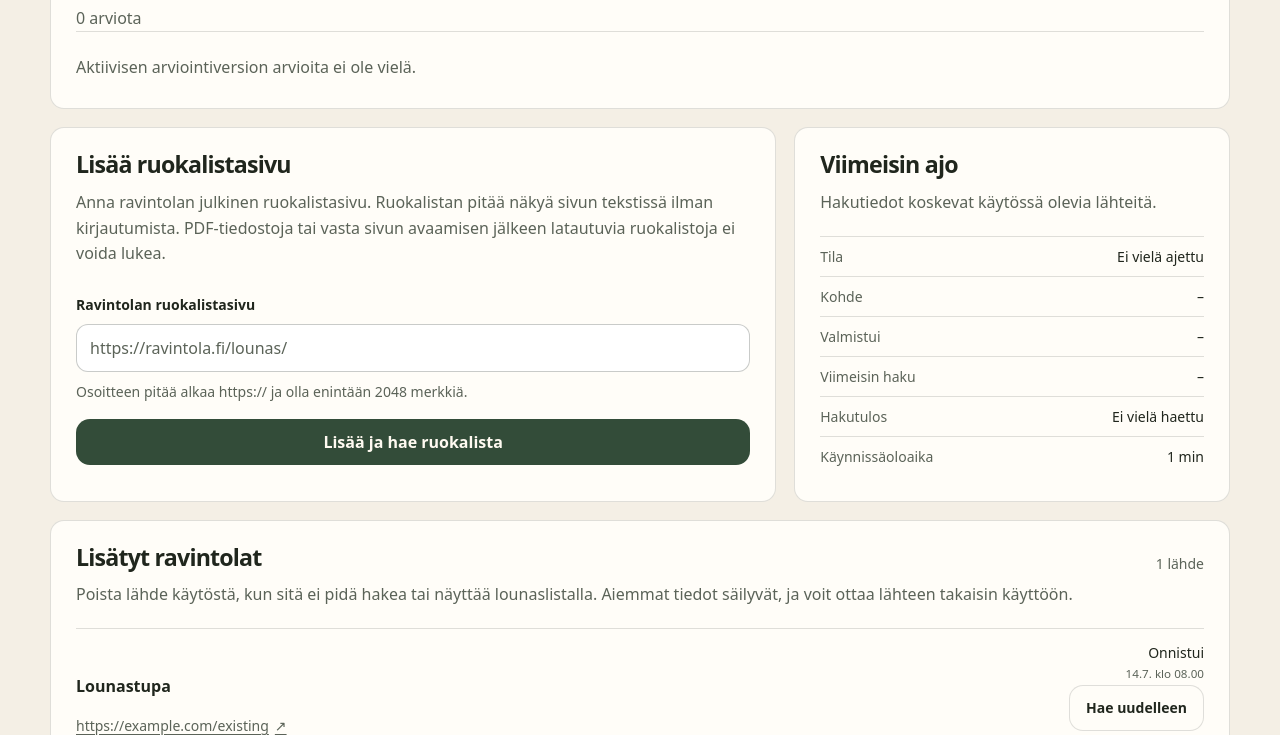
Test: admin recovery › disables and enables a source with confirmed local state, no duplicate save, and an intact draft
(page scrolled)
Type "https://example.com/new-draft" into the field labelled "Ravintolan ruokalistasivu".
click(413, 348); type("https://example.com/new-draft")  # box 76,324 -> 750,372
(page scrolled)
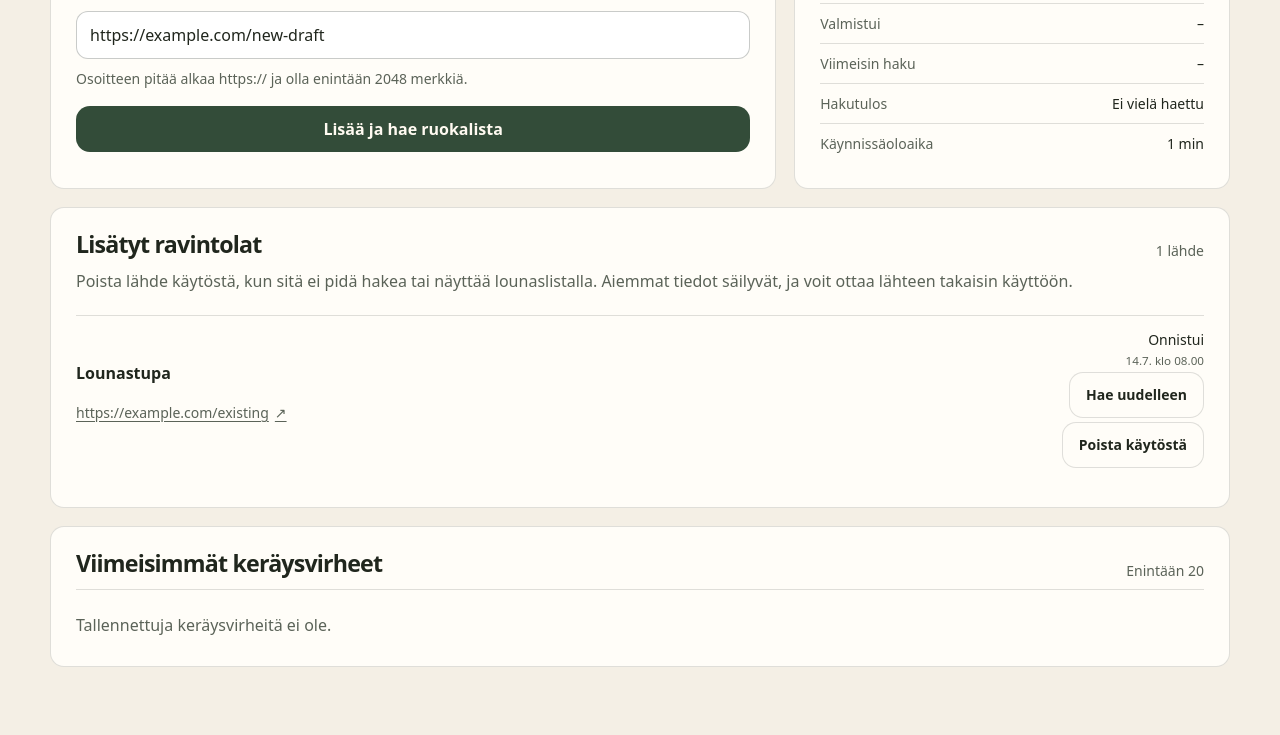
Click the button with aria-label "Poista käytöstä: Lounastupa".
click(1133, 445)  # box 1062,422 -> 1204,468
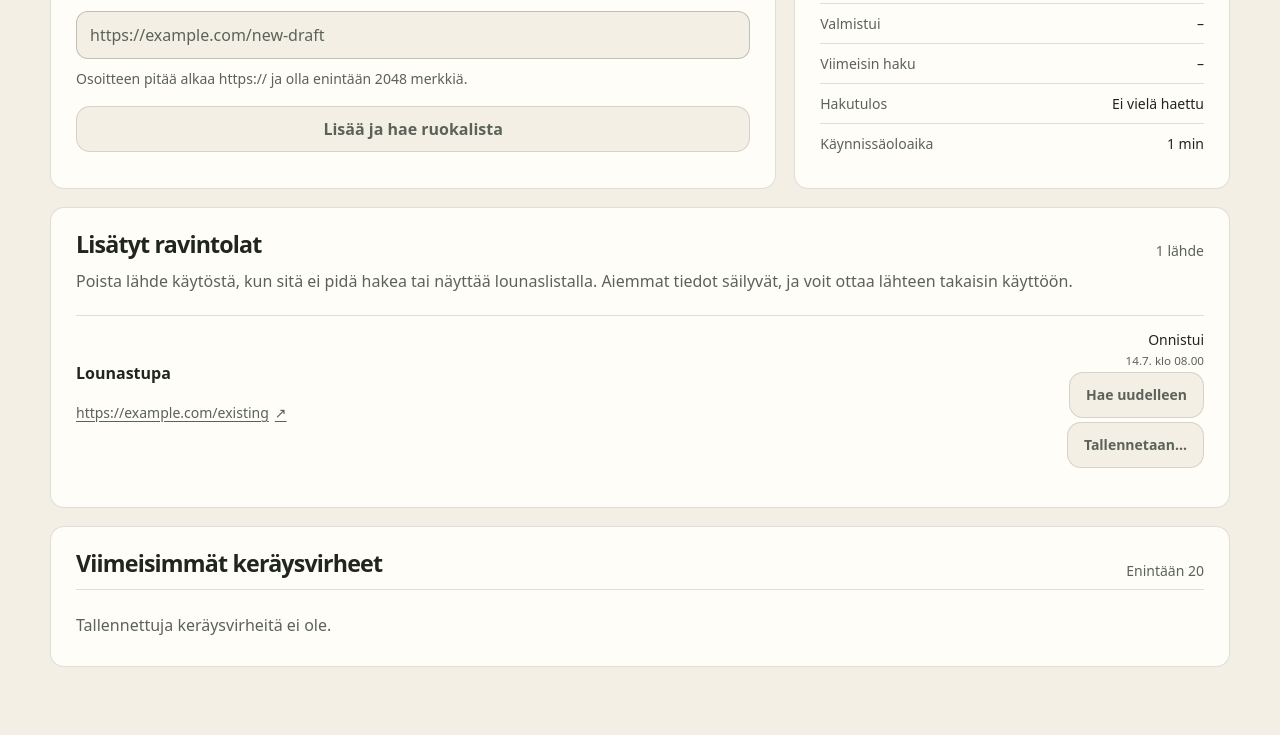
Expected: the button with aria-label "Poista käytöstä: Lounastupa" is disabled
Expected: the button with aria-label "Hae uudelleen: Lounastupa" is disabled, 1069,372 -> 1204,418
Click the button with aria-label "Poista käytöstä: Lounastupa".
click(1135, 445)  # box 1067,422 -> 1204,468
(page scrolled)
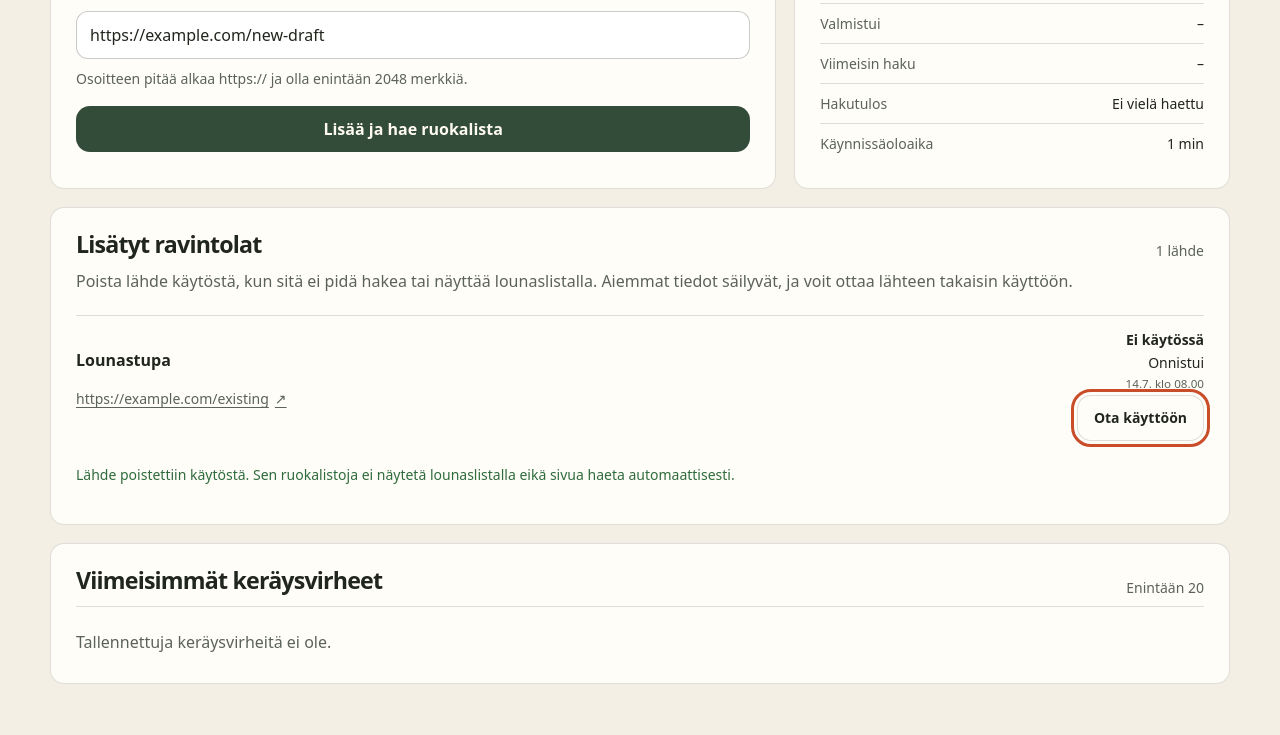
Expected: the text "Ei käytössä" is shown, 1126,330 -> 1204,349
Expected: the message shows "Lähde poistettiin käytöstä", 76,465 -> 735,484
Click the button with aria-label "Ota käyttöön: Lounastupa".
click(1140, 418)  # box 1077,395 -> 1204,441
(page scrolled)
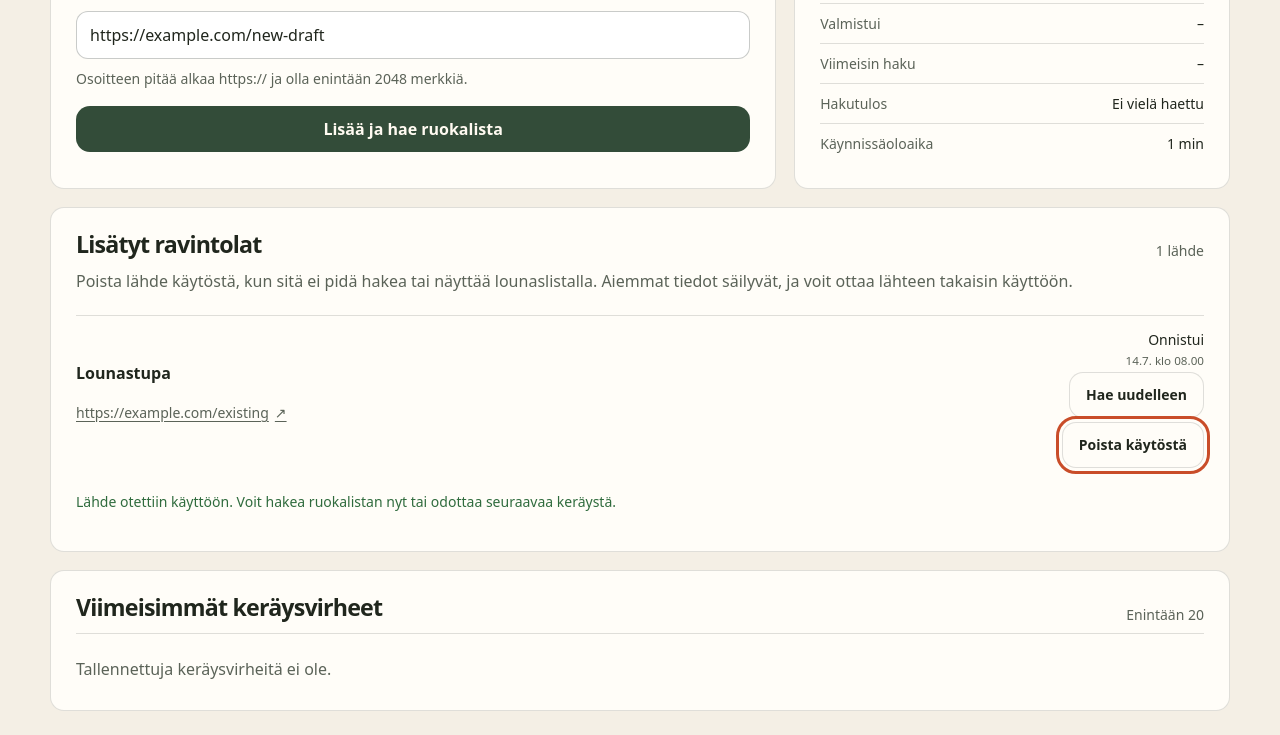
Expected: the text "Ei käytössä" is not shown
Expected: the button with aria-label "Poista käytöstä: Lounastupa" is shown, 1062,422 -> 1204,468
Expected: the message shows "Lähde otettiin käyttöön", 76,492 -> 616,511
